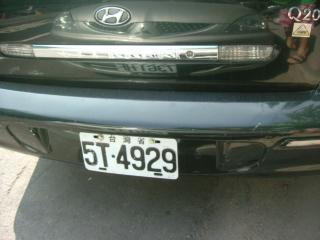plate: (76, 129, 181, 182)
